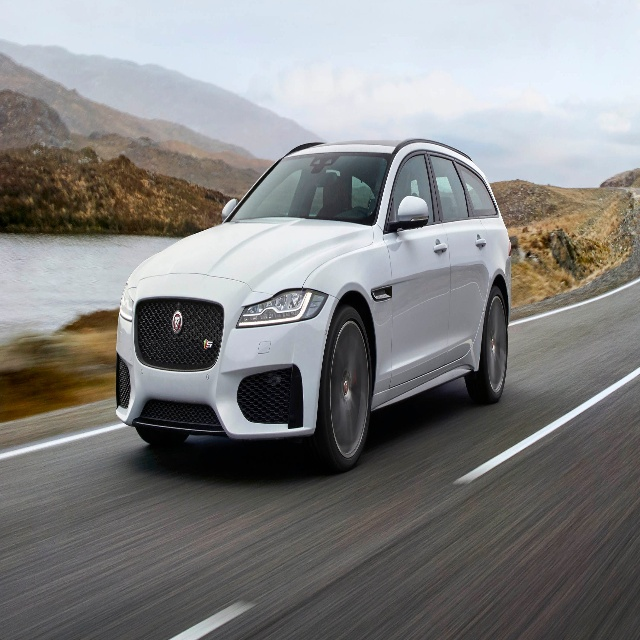Car: (115, 135, 512, 475)
